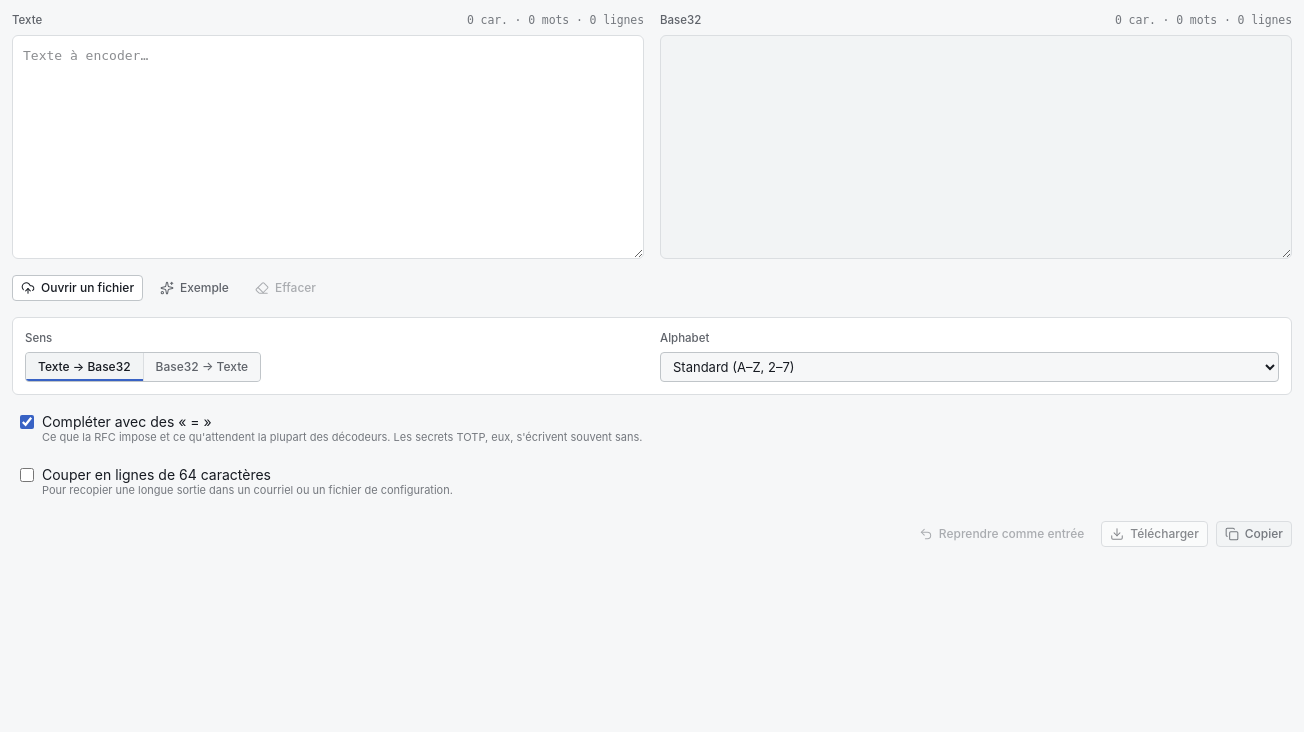
Base32 › reproduit le vecteur de la RFC 4648
Click the text box labelled "Texte" at (328, 147), box [12,35,644,259]
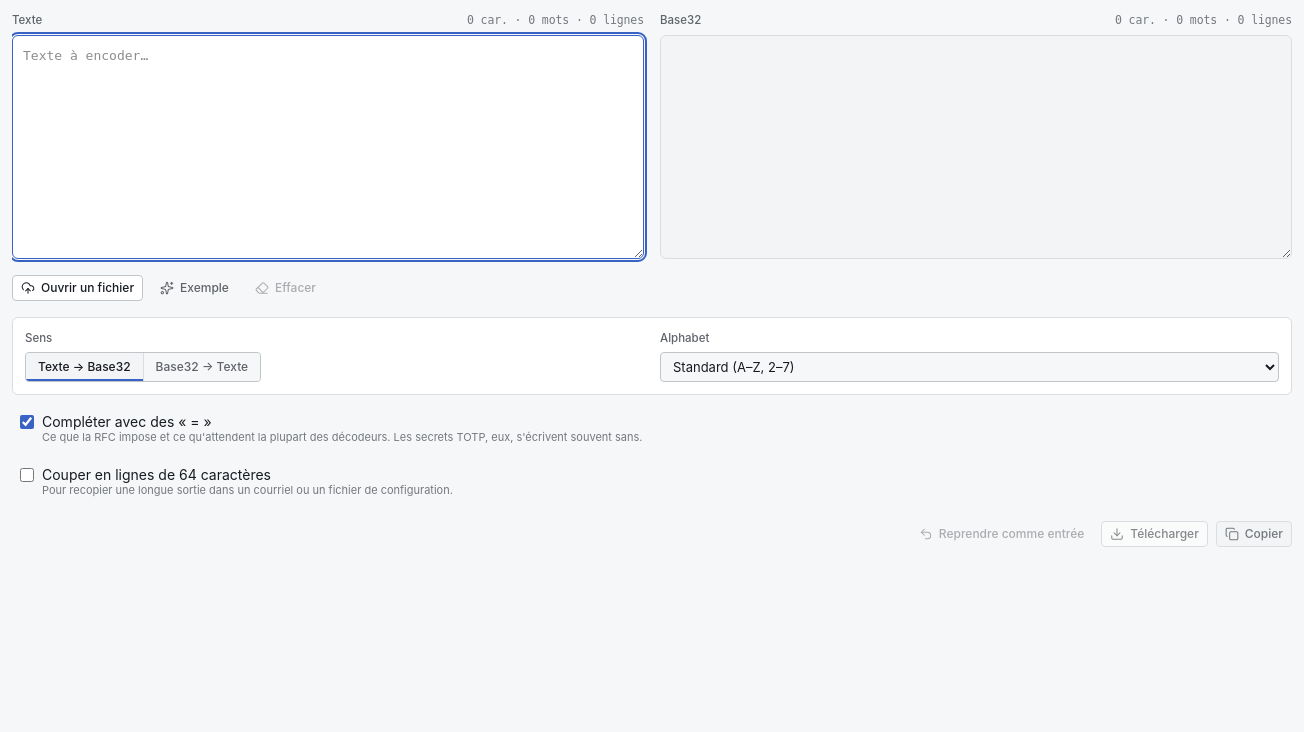
Type keys "foobar"
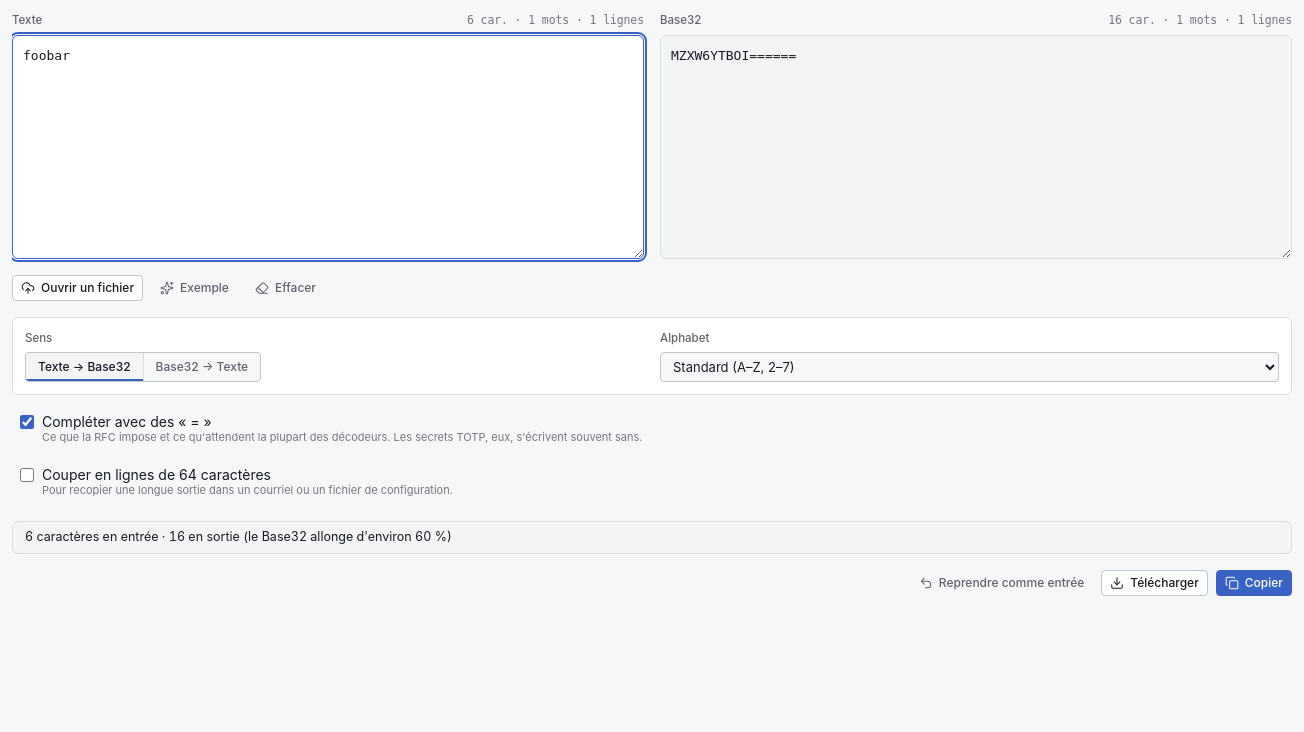
Check: the text box labelled "Base32" holds "MZXW6YTBOI======", box [660,35,1292,259]
